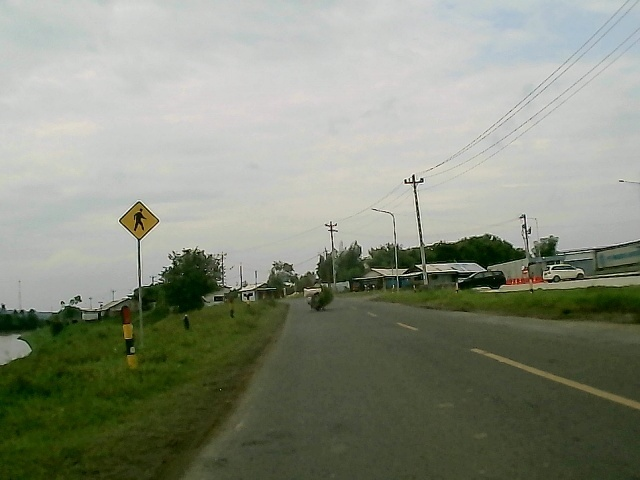Peringatan orang menyeberang: (117, 199, 163, 241)
